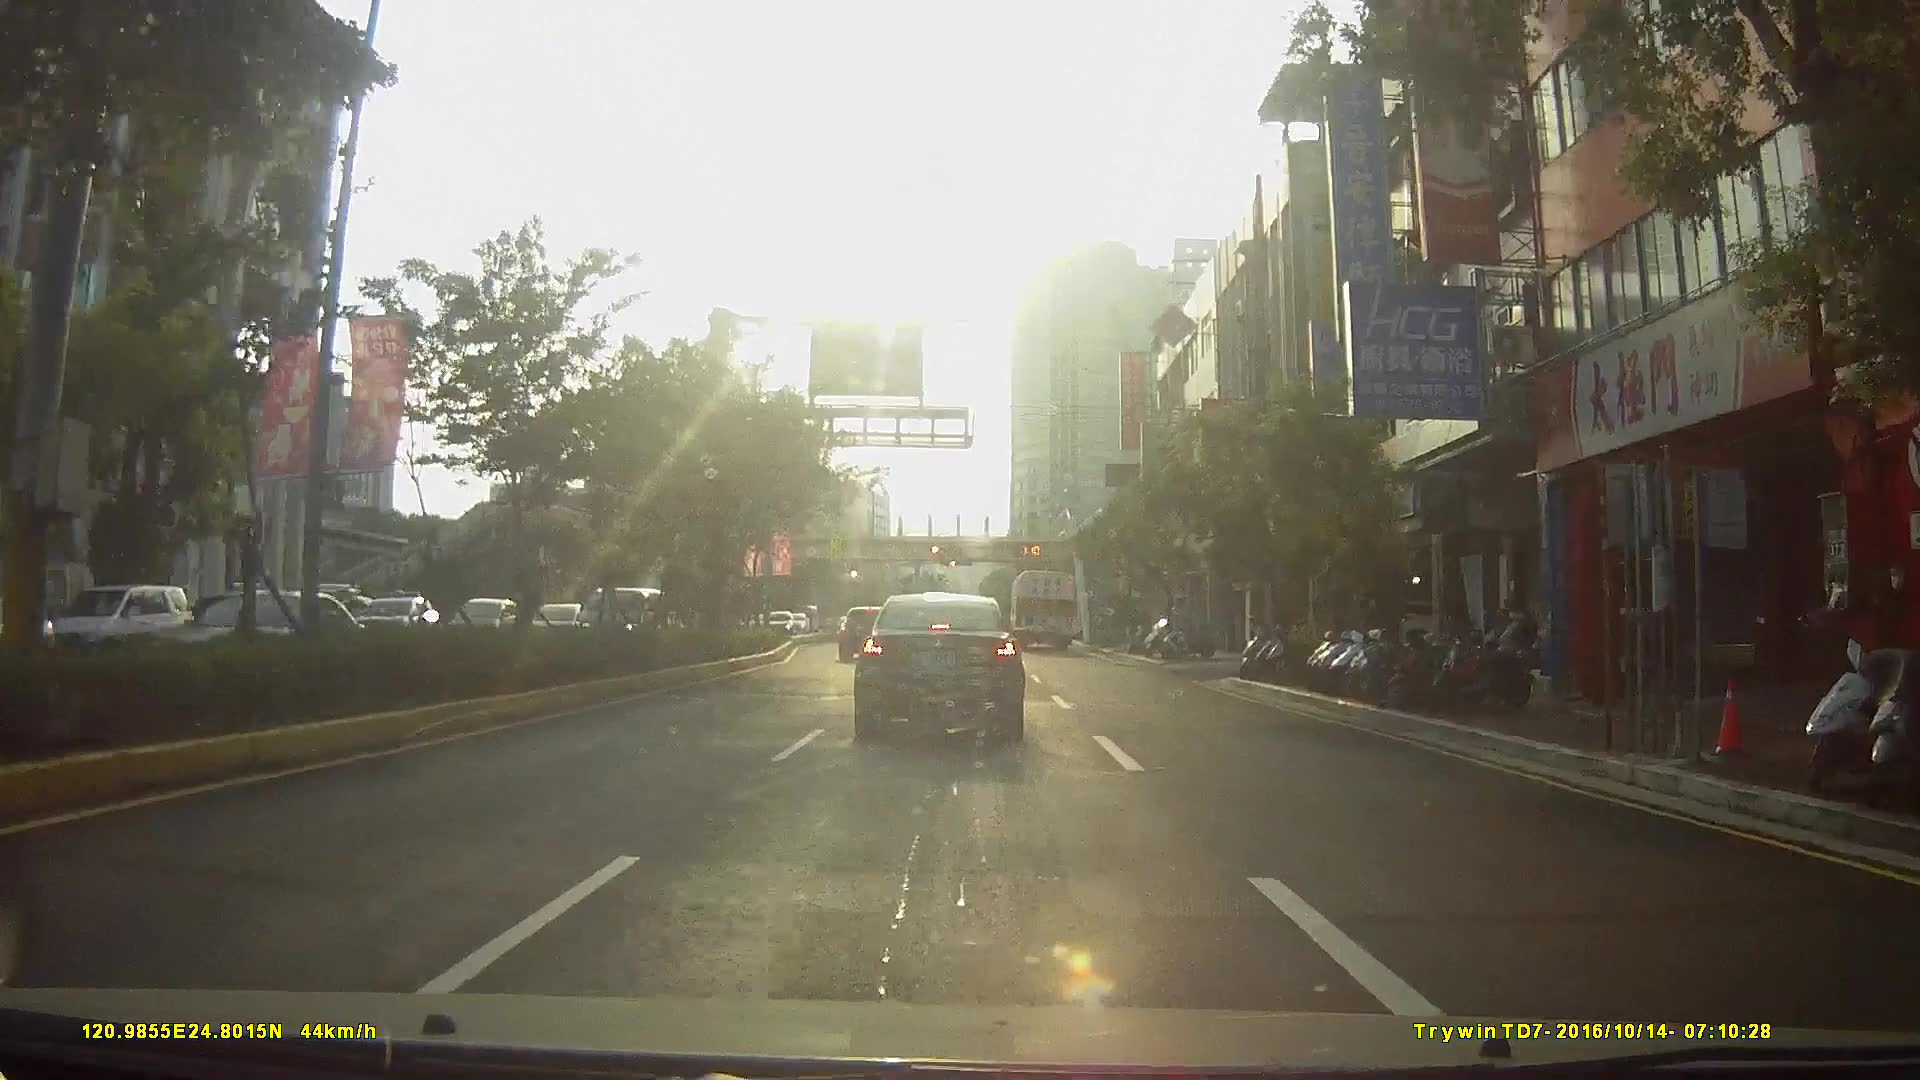vehicle: (851, 589, 1025, 744), (41, 585, 185, 659), (185, 589, 295, 655), (1007, 570, 1080, 655), (580, 589, 678, 651), (835, 604, 891, 659), (764, 609, 796, 636)
